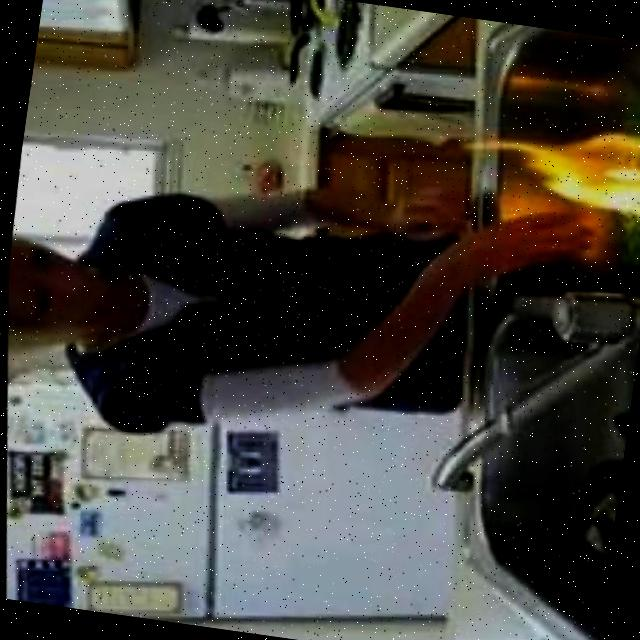fire: (486, 105, 640, 235)
